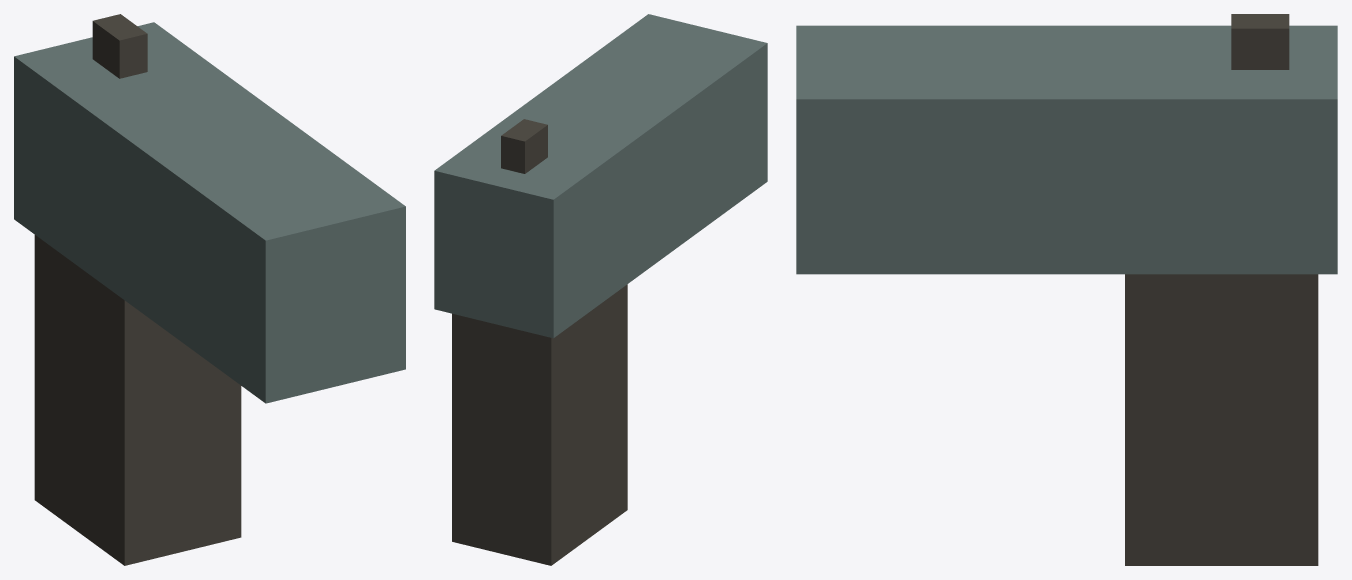
File: weapon_pistol_lod1.obj
3 views of the same model, side by side, from view 1: azimuth 30°, elevation 25°; view 2: azimuth 150°, elevation 25°; view 3: azimuth 270°, elevation 25° (orthographic). The views are drawn at different scales.
Parts seen in each view (by area): view 1: weapon_pistol_lod1; view 2: weapon_pistol_lod1; view 3: weapon_pistol_lod1.
Boxes of the visible parts, x1=… form: weapon_pistol_lod1: x1=14, y1=14, x2=405, y2=565; weapon_pistol_lod1: x1=434, y1=14, x2=767, y2=565; weapon_pistol_lod1: x1=796, y1=14, x2=1337, y2=565.
Bounding box in the file's own units: 0.09 × 0.2935 × 0.28.
1 material, 1 textured.
